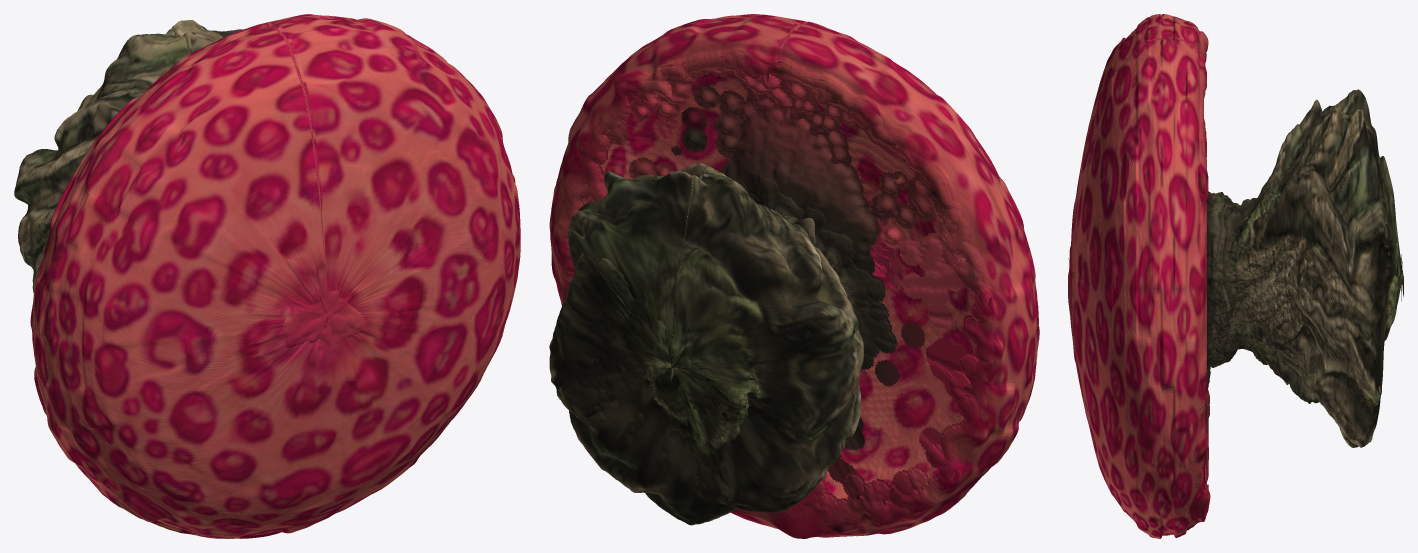
The model's file is mesh_inpaint.glb.
3 renders of one model, left to right at view 1: azimuth 30°, elevation 25°; view 2: azimuth 150°, elevation 25°; view 3: azimuth 270°, elevation 25°, orthographic. The views are drawn at different scales.
Parts seen in each view (by area): view 1: ipn, fill; view 2: ipn, fill; view 3: ipn, fill.
Part boxes in pixels (x1,y1,x2,y2): ipn: (14, 14, 520, 538); fill: (280, 288, 365, 353); ipn: (549, 14, 1039, 538); fill: (554, 48, 997, 525); ipn: (1068, 14, 1403, 538); fill: (1068, 33, 1399, 515).
Bounding box in the file's own units: 1.98 × 1.99 × 1.27.
2 materials, 1 textured.
